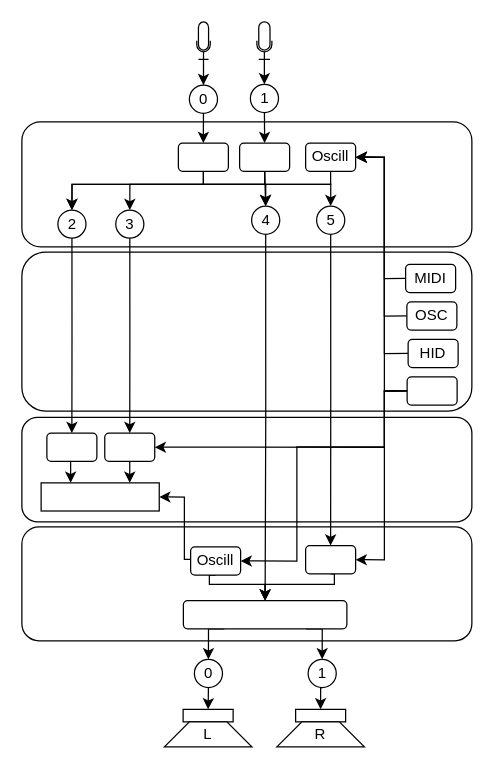
This 494x769 diagram has some shape labels left out. The box of each missing label's shape, as (x1, y1, x2, y2) in pixels:
Buffer: (40, 482, 159, 511)
FFT: (46, 432, 97, 461)
FX: (304, 544, 356, 574)
LFO: (406, 376, 457, 405)
Line: (238, 142, 290, 171)
Mic: (177, 142, 228, 171)
Pan: (182, 599, 347, 629)
Rec: (104, 432, 155, 461)
